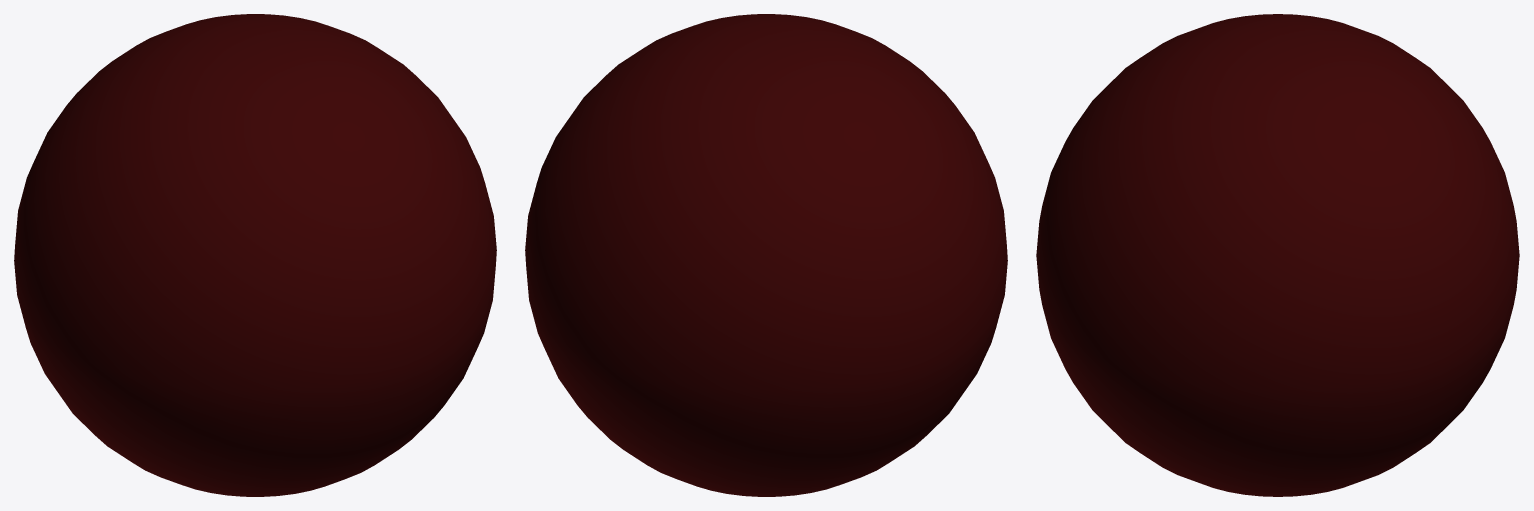
File: Marble_Type05_Collection_Glitter1.fbx
3 views of the same model, side by side, from view 1: azimuth 30°, elevation 25°; view 2: azimuth 150°, elevation 25°; view 3: azimuth 270°, elevation 25° (orthographic).
Visible parts, largest first — view 1: Marble_Type05_EXT_001; view 2: Marble_Type05_EXT_001; view 3: Marble_Type05_EXT_001.
Boxes of the visible parts, box(x1,y1,x2,y2) form: Marble_Type05_EXT_001: box(14, 14, 496, 496); Marble_Type05_EXT_001: box(525, 14, 1007, 496); Marble_Type05_EXT_001: box(1036, 14, 1519, 496).
Bounding box in the file's own units: 100 × 100 × 100.
